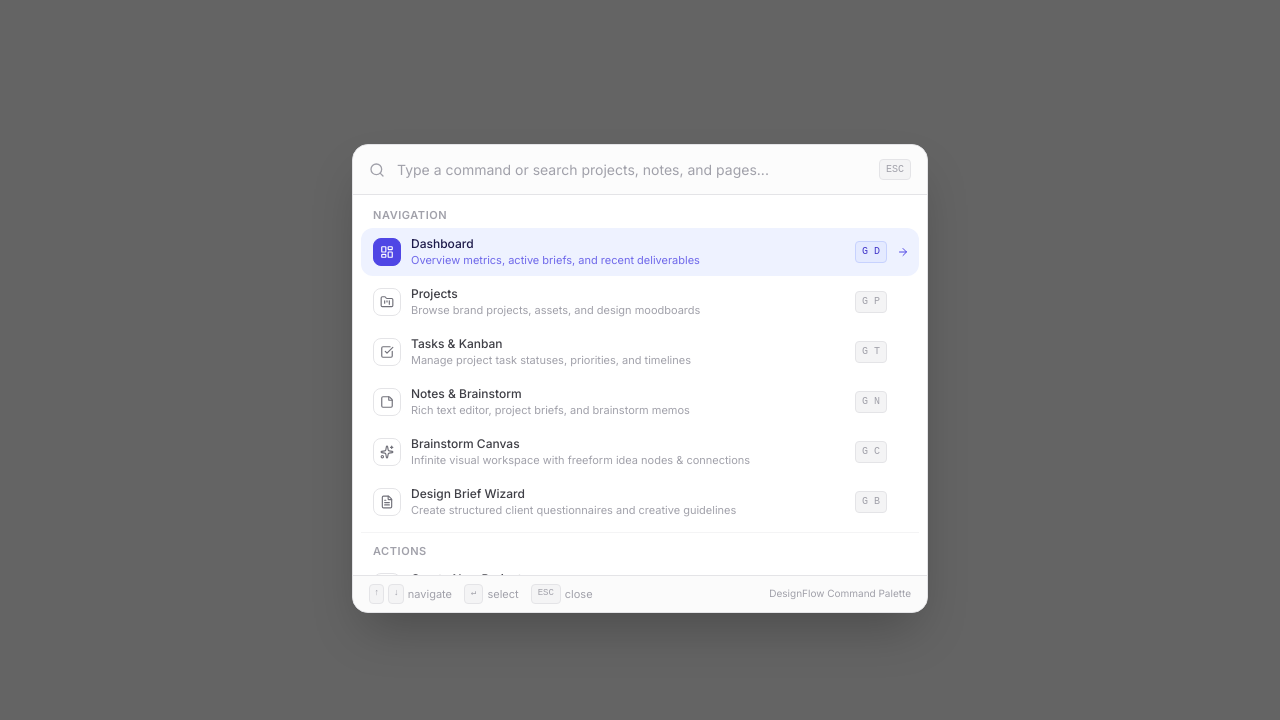
it: CommandPaletteModal › displays empty state when query matches nothing
In the field with test id "command-palette-input": [632, 170] box [397, 160, 867, 180], type "xyznonexistentquery123"
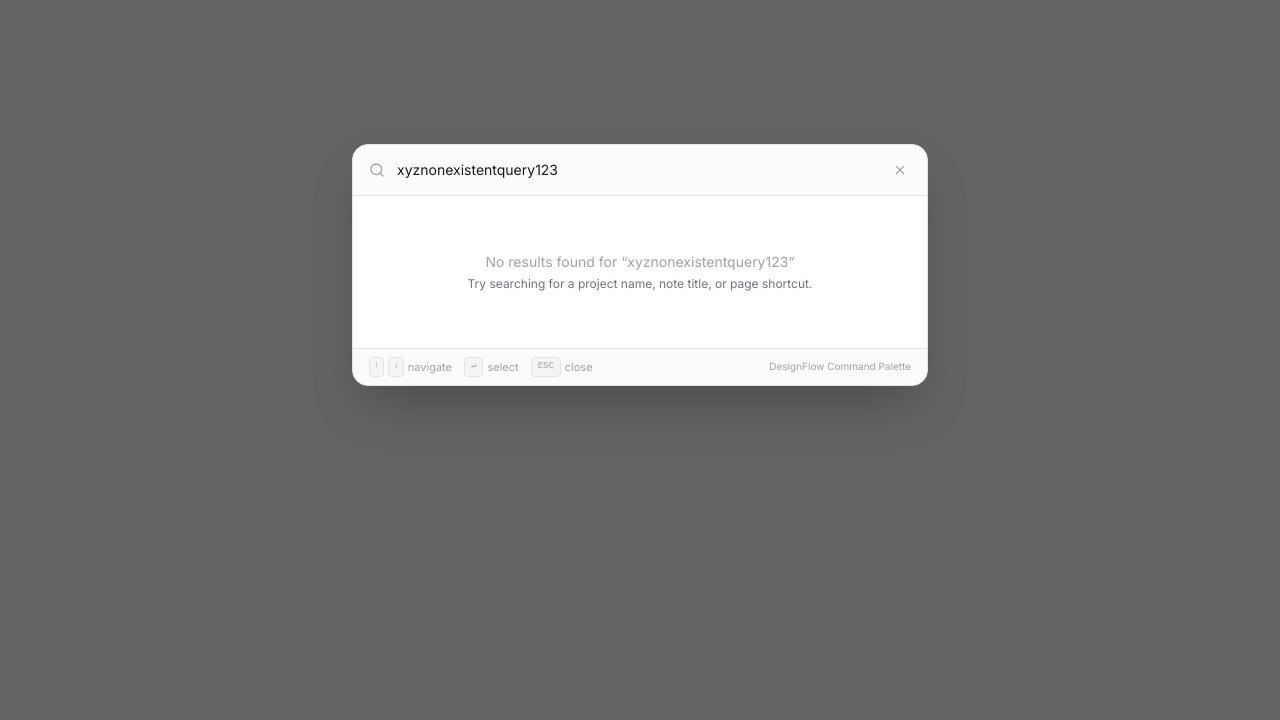
Now the element with test id "command-palette-empty" is shown, box [468, 253, 812, 291]
Now the text "No results found for “xyznonexistentquery123”" is shown, box [486, 253, 795, 270]
